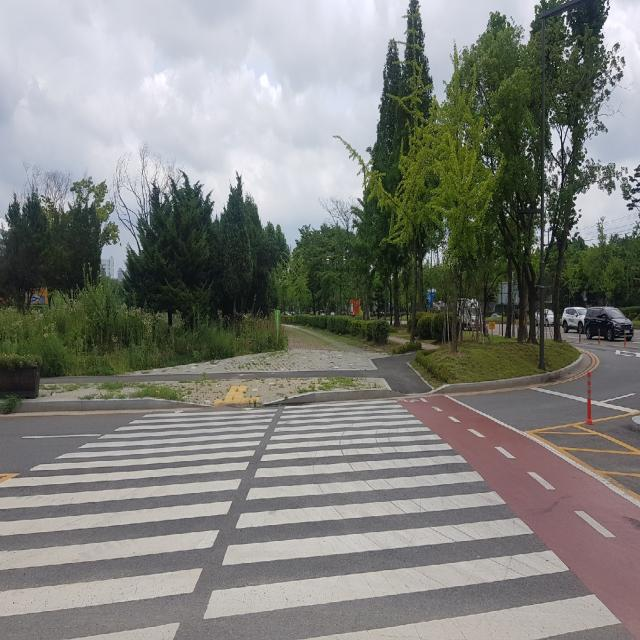횡단보도: (0, 396, 623, 640)
